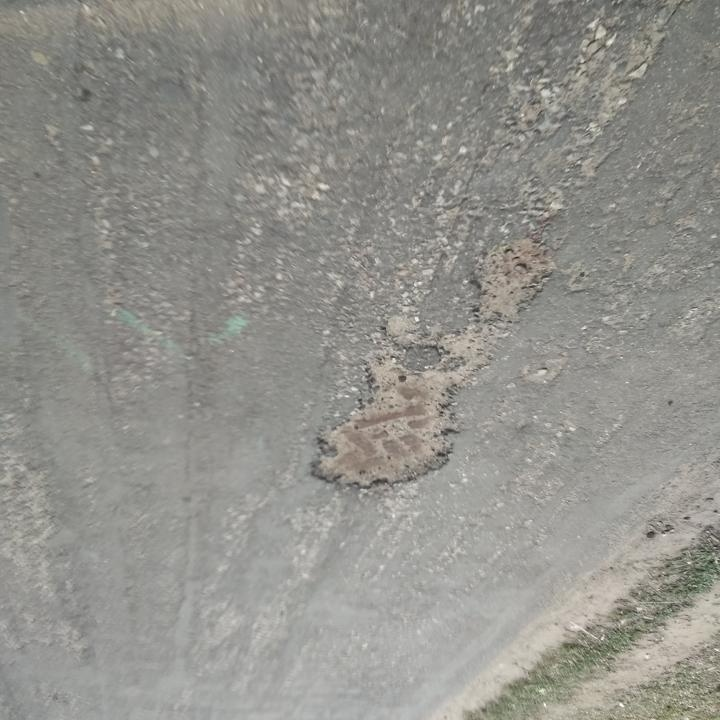pothole: (307, 359, 464, 496), (471, 238, 561, 326)
